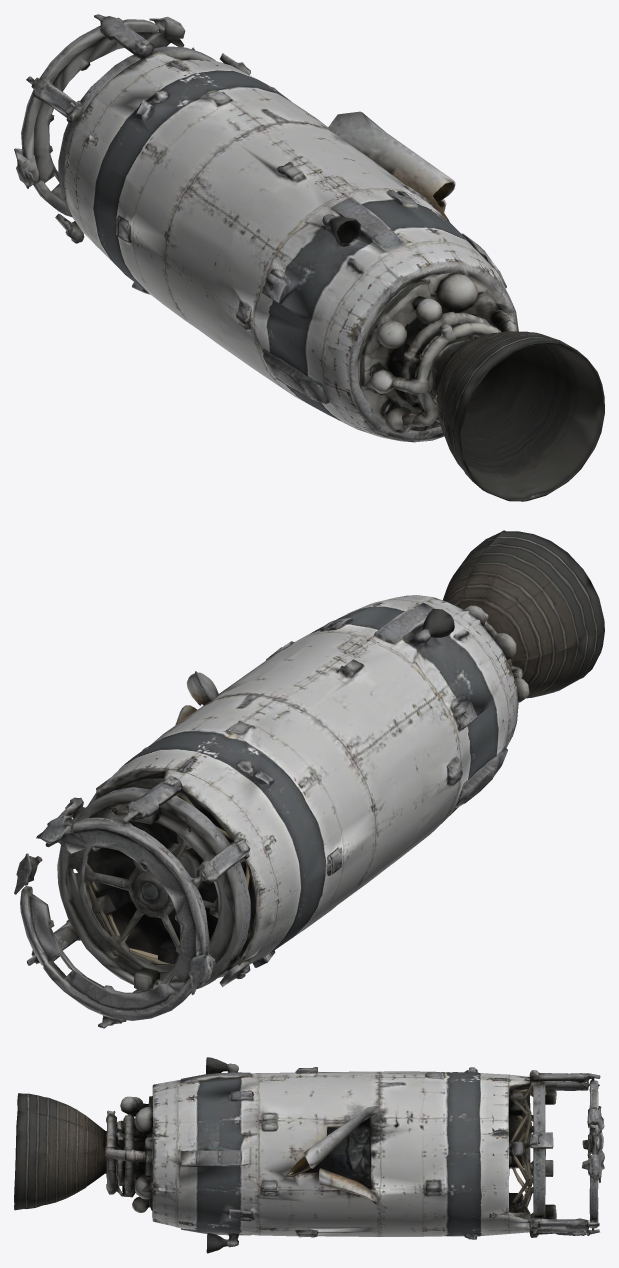
Rendered from debris-stage.glb.
3 views of the same model, one above another, from view 1: azimuth 30°, elevation 25°; view 2: azimuth 150°, elevation 25°; view 3: azimuth 270°, elevation 25° (orthographic). The views are drawn at different scales.
Parts seen in each view (by area): view 1: tripo_node_475bd0a3-1ce0-4896-8e90-d0c2a0f5c795; view 2: tripo_node_475bd0a3-1ce0-4896-8e90-d0c2a0f5c795; view 3: tripo_node_475bd0a3-1ce0-4896-8e90-d0c2a0f5c795.
Boxes of the visible parts, left/top/right/bottom form: tripo_node_475bd0a3-1ce0-4896-8e90-d0c2a0f5c795: left=14, top=14, right=604, bottom=501; tripo_node_475bd0a3-1ce0-4896-8e90-d0c2a0f5c795: left=14, top=530, right=604, bottom=1028; tripo_node_475bd0a3-1ce0-4896-8e90-d0c2a0f5c795: left=14, top=1057, right=604, bottom=1253.
Size of the model in its own units: 0.3293 by 0.3054 by 0.9999.
1 material, 1 textured.
